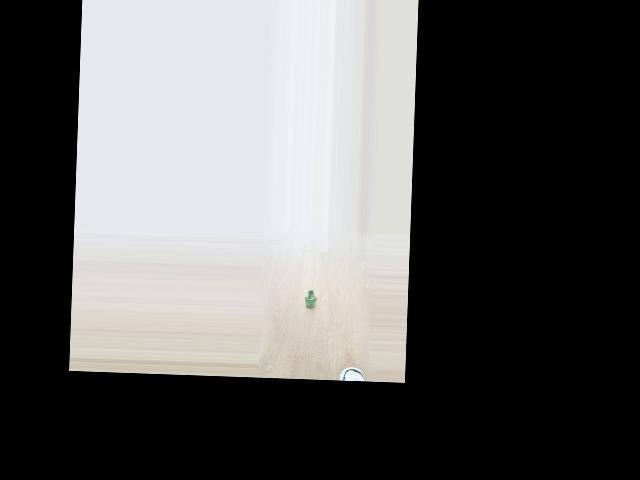beer: (304, 290, 317, 309)
